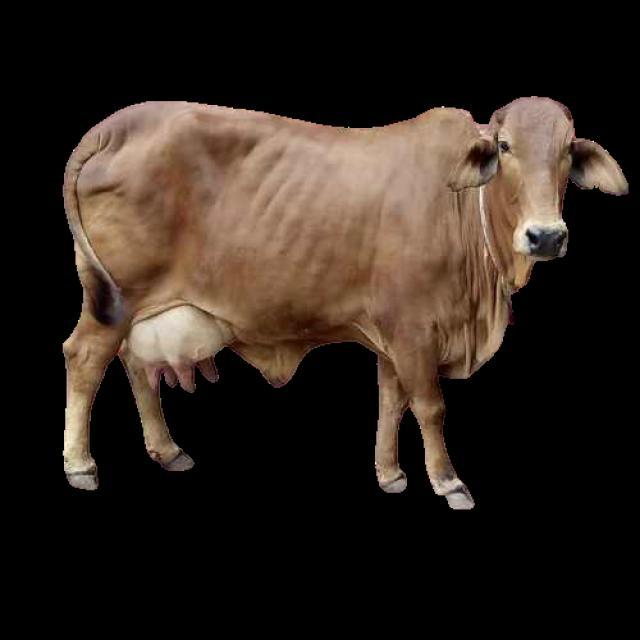cow: (64, 98, 628, 509)
